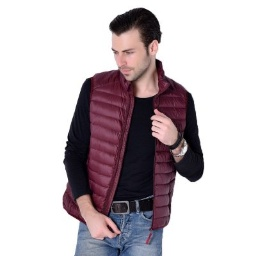face: (109, 7, 163, 83)
